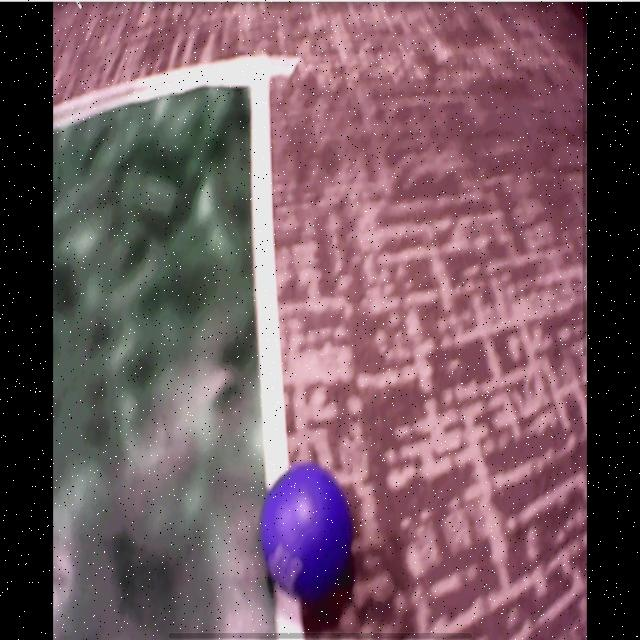ball: (262, 464, 350, 595)
